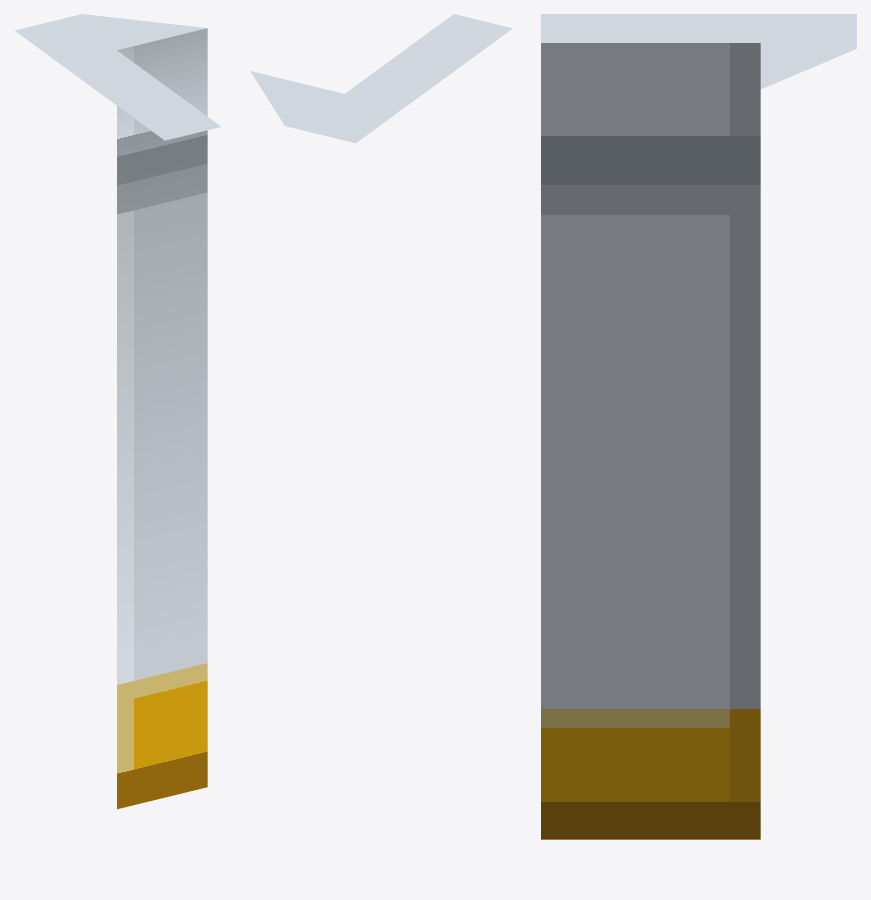
3 renders of one model, left to right at view 1: azimuth 30°, elevation 25°; view 2: azimuth 150°, elevation 25°; view 3: azimuth 270°, elevation 25°, orthographic. The views are drawn at different scales.
Size of the model in its own units: 0.8125 by 4 by 1.44.
1 material, 1 textured.
